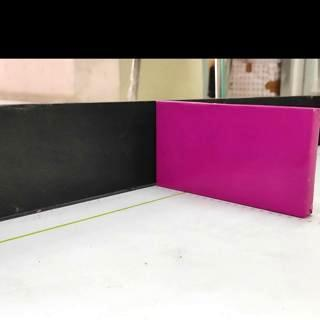xparking: (159, 112, 320, 214)
